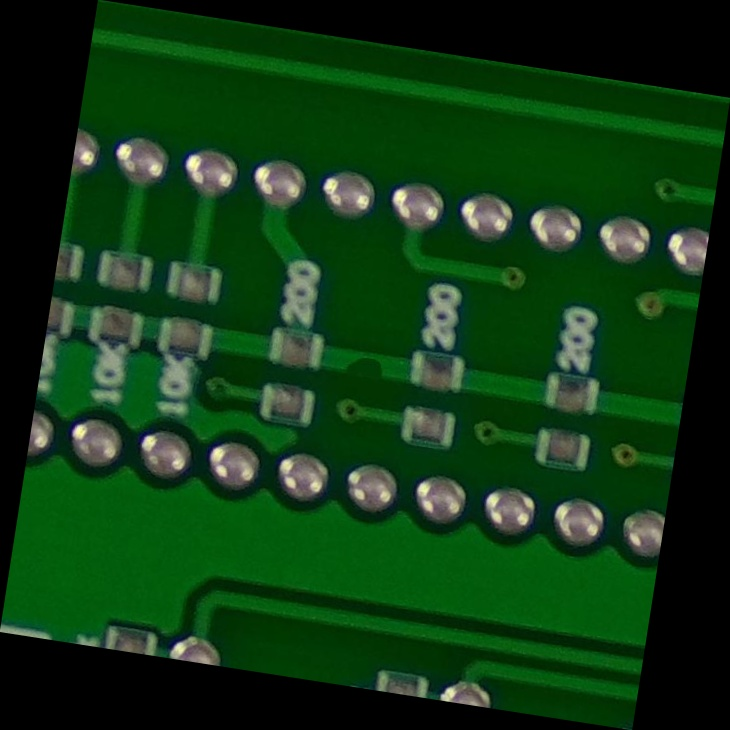mouse_bite: (332, 339, 399, 392)
